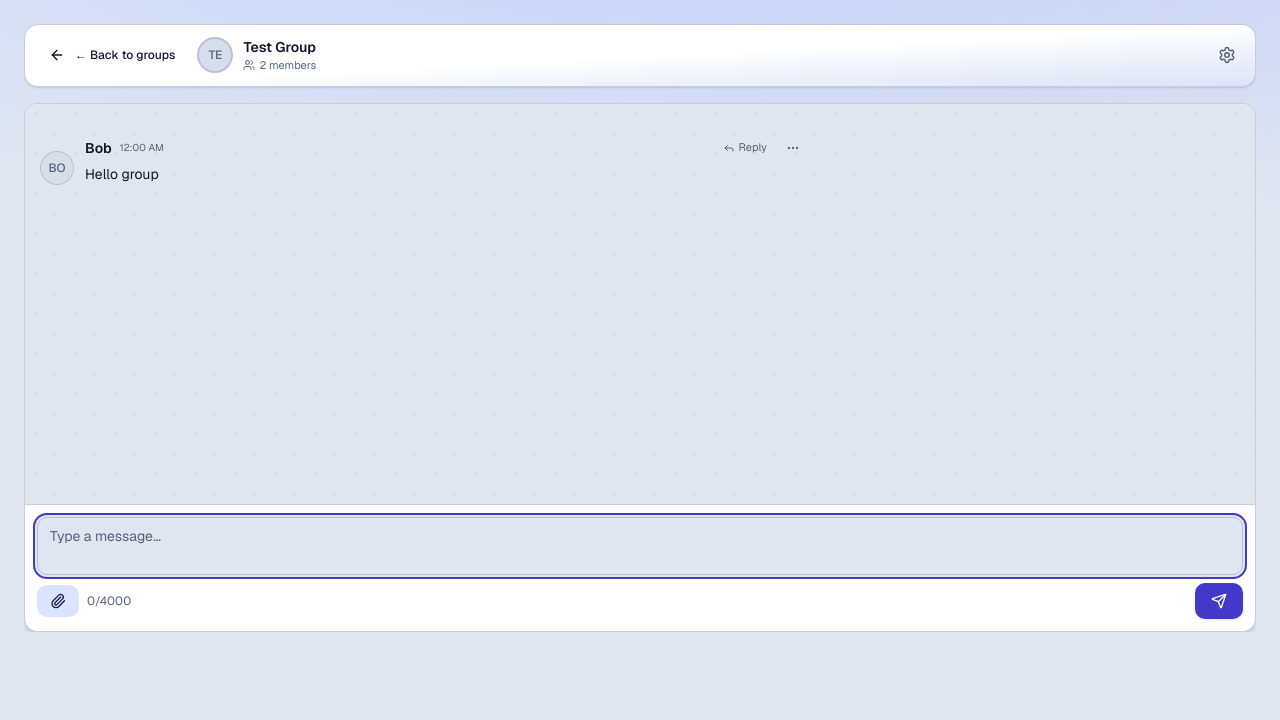
Test: GroupConversationPage — pinned messages › owner sees Pin action and pins a message
Expected: the text "Hello group" is shown, 85,164 -> 159,182
Click the button with test id "group-message-menu-trigger-m1".
click(793, 148)  # box 777,132 -> 809,164
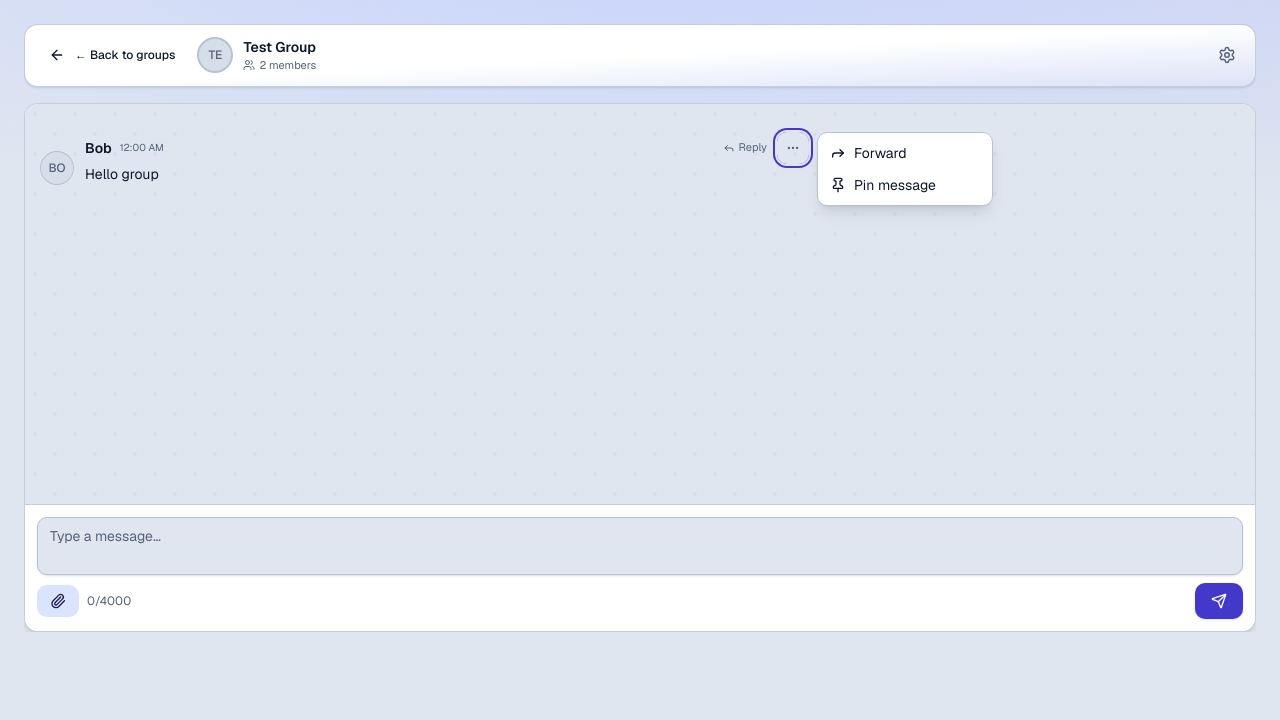
Result: the menu item with test id "group-pin-action-m1" is shown
Click the menu item with test id "group-pin-action-m1".
click(905, 184)  # box 822,168 -> 988,200
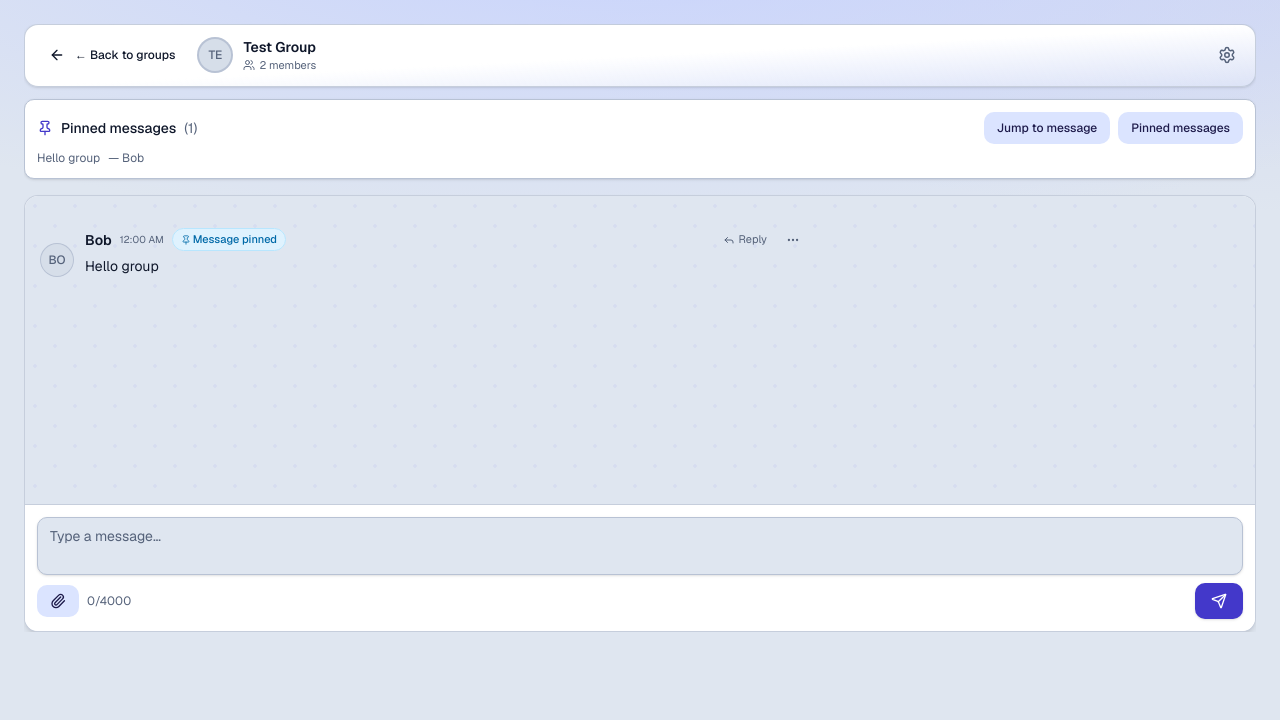
Result: the element with test id "message-pinned-indicator-m1" is shown at 172,228 -> 286,251
Result: the element with test id "group-pinned-header" is shown at 24,98 -> 1256,178
